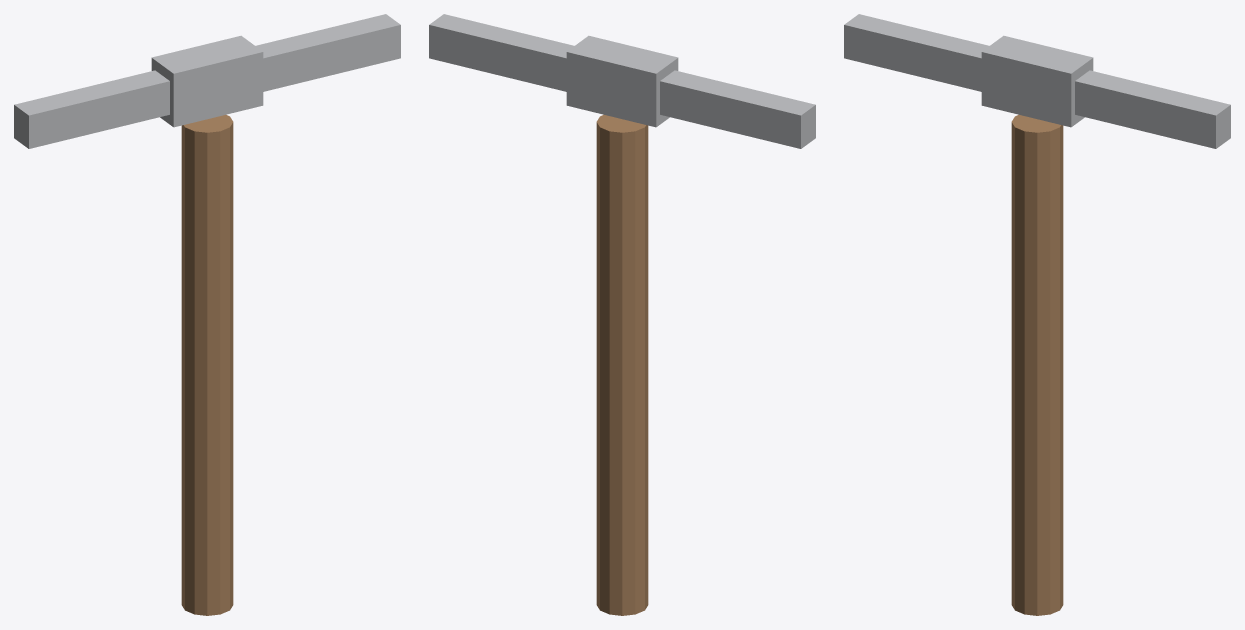
The model's file is pickaxe.glb.
3 renders of one model, left to right at view 1: azimuth 30°, elevation 25°; view 2: azimuth 150°, elevation 25°; view 3: azimuth 330°, elevation 25°, orthographic.
Parts seen in each view (by area): view 1: PickaxeHandle, PickaxeBladeL, PickaxeHead, PickaxeBladeR; view 2: PickaxeHandle, PickaxeBladeL, PickaxeHead, PickaxeBladeR; view 3: PickaxeHandle, PickaxeBladeR, PickaxeHead, PickaxeBladeL.
Part boxes in pixels (x1,y1,x2,y2): PickaxeHandle: (181, 115, 233, 615); PickaxeBladeL: (14, 70, 169, 148); PickaxeHead: (151, 35, 263, 127); PickaxeBladeR: (256, 14, 400, 91); PickaxeHandle: (596, 115, 648, 615); PickaxeBladeL: (660, 70, 815, 148); PickaxeHead: (566, 35, 678, 127); PickaxeBladeR: (429, 14, 573, 91); PickaxeHandle: (1011, 115, 1063, 615); PickaxeBladeR: (1075, 70, 1230, 148); PickaxeHead: (981, 35, 1093, 127); PickaxeBladeL: (844, 14, 988, 91).
Size of the model in its own units: 0.58 by 0.82 by 0.07.
